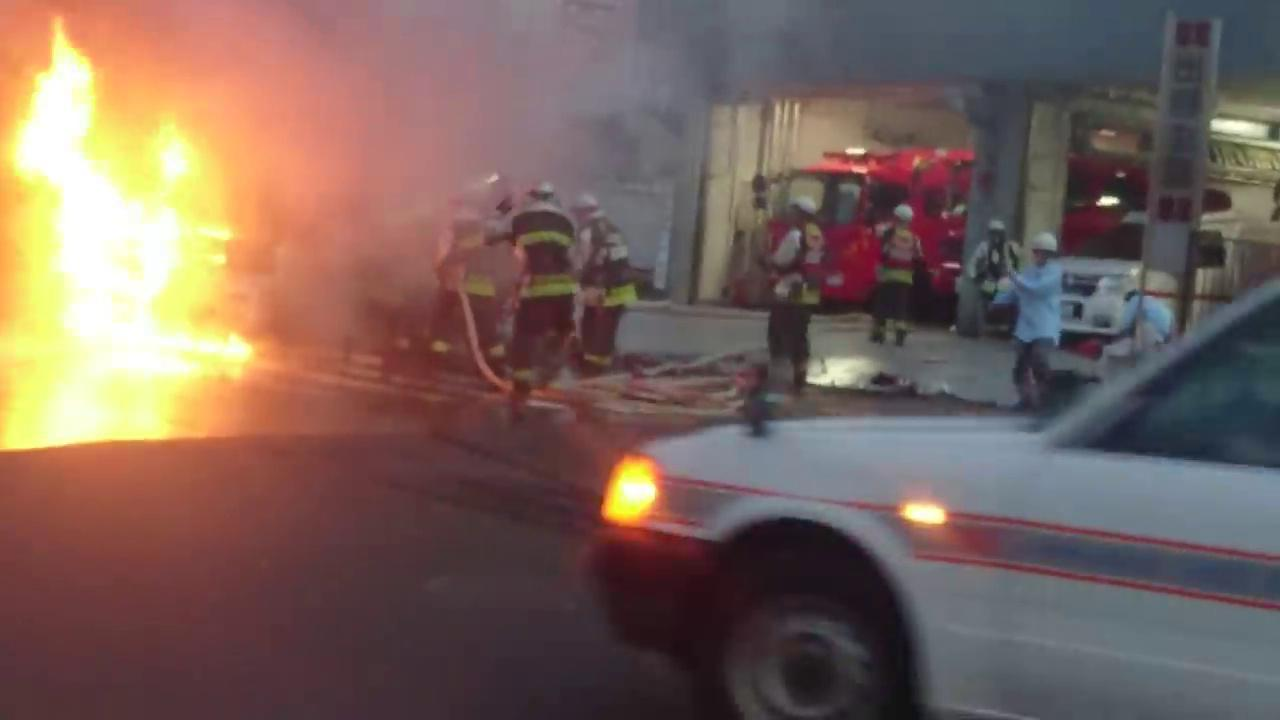Fire: (108, 15, 773, 273), (10, 25, 258, 451)
